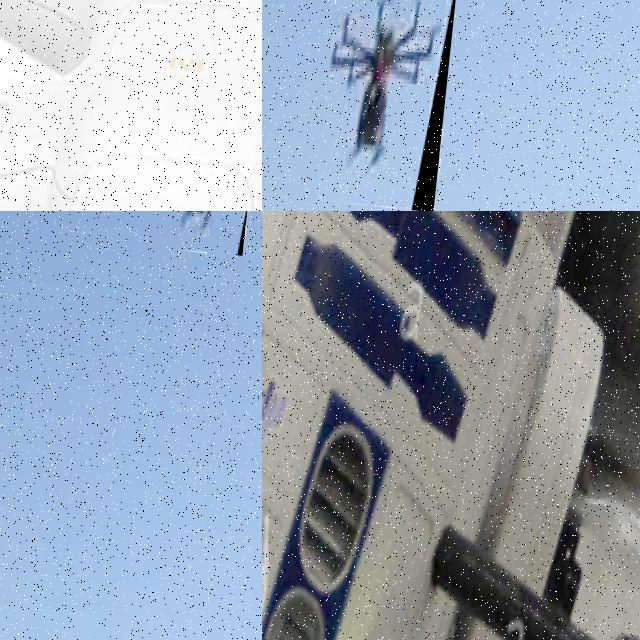drone: (262, 211, 640, 640), (0, 0, 262, 211), (314, 0, 459, 211), (141, 211, 248, 255)
